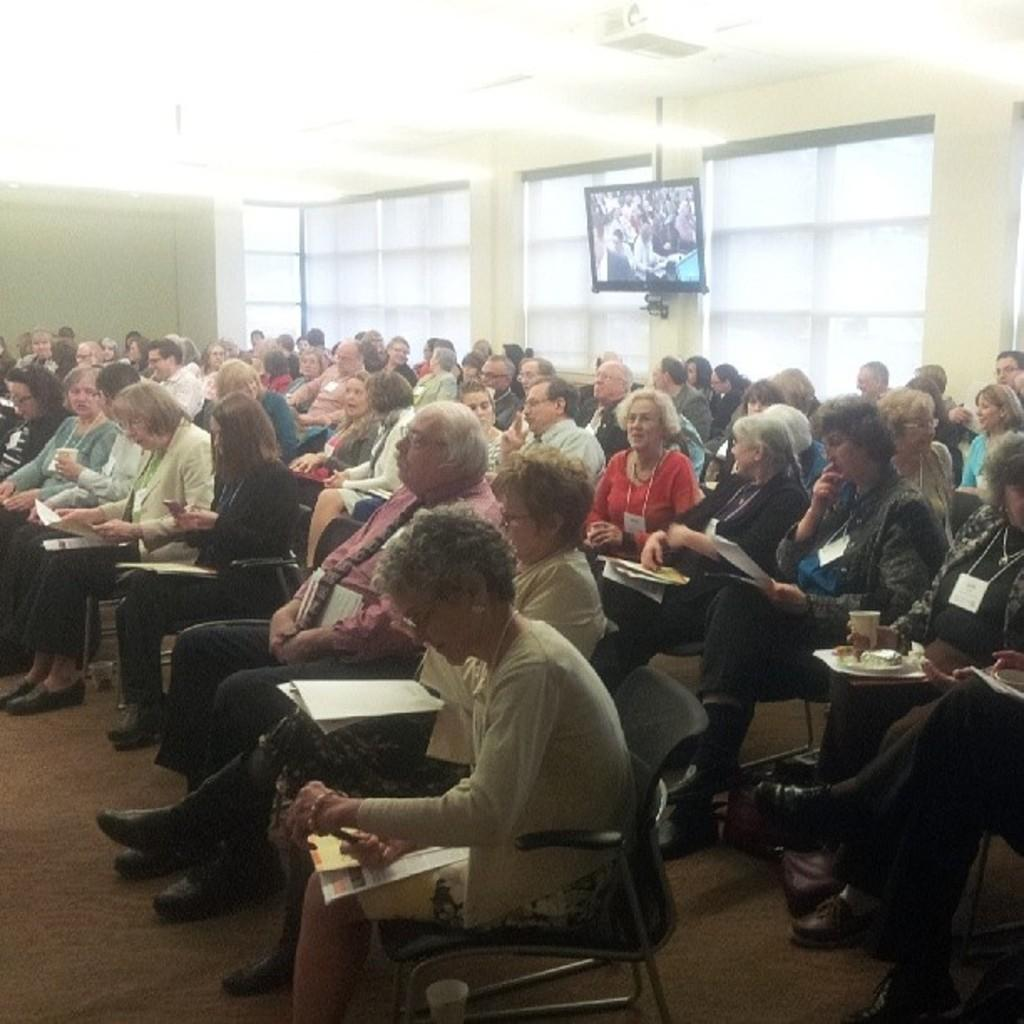Chair: (0, 376, 1022, 1022), (238, 654, 703, 1009)
